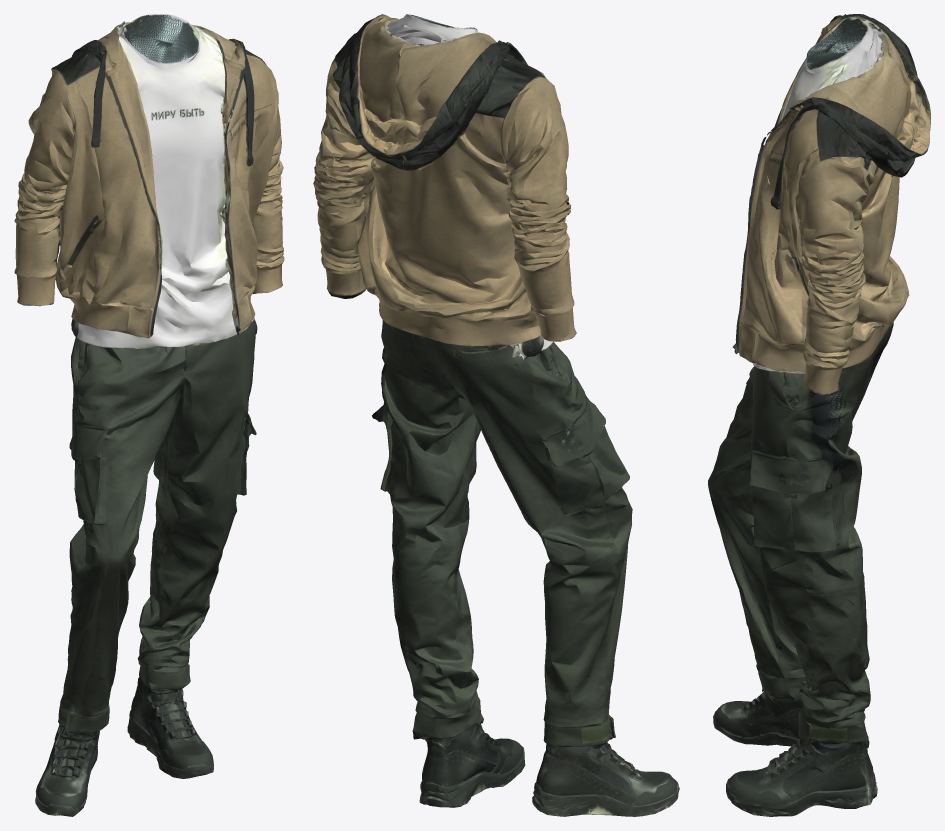
File: ManBezh.fbx
3 renders of one model, left to right at view 1: azimuth 30°, elevation 25°; view 2: azimuth 150°, elevation 25°; view 3: azimuth 270°, elevation 25°, orthographic. The views are drawn at different scales.
Parts seen in each view (by area): view 1: BEZH MUZHSKOI; view 2: BEZH MUZHSKOI; view 3: BEZH MUZHSKOI.
Part boxes in pixels (<box>): BEZH MUZHSKOI: <box>14,14,284,816</box>; BEZH MUZHSKOI: <box>313,14,679,816</box>; BEZH MUZHSKOI: <box>708,14,930,816</box>.
Size of the model in its own units: 68.13 by 166 by 43.23.
